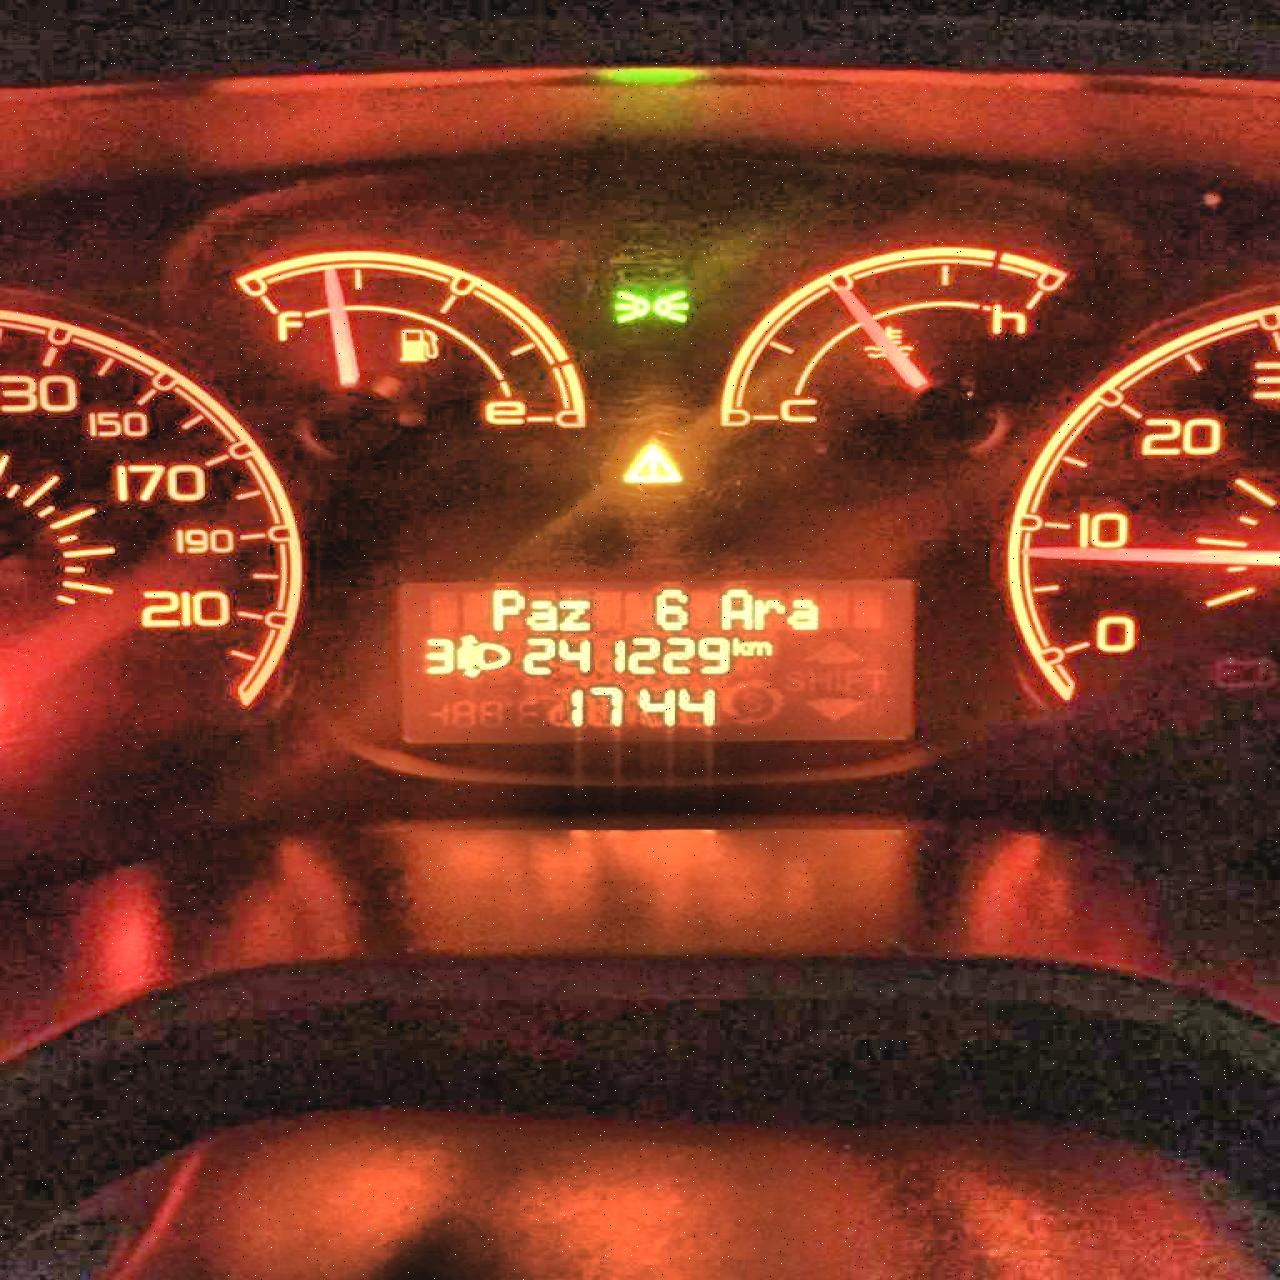1: (564, 685, 584, 727), (606, 636, 626, 674)
2: (520, 635, 554, 676), (625, 635, 659, 675), (660, 634, 693, 674)
3: (423, 636, 454, 675)
4: (633, 685, 676, 729), (676, 685, 716, 727), (557, 636, 593, 674)
6: (651, 585, 690, 631)
7: (585, 682, 624, 728)
9: (695, 634, 730, 675)
X: (489, 586, 525, 632), (716, 585, 751, 631), (557, 598, 593, 632), (784, 595, 818, 629), (525, 598, 557, 632), (754, 595, 784, 629), (747, 639, 771, 656), (730, 634, 745, 656)
odometer: (388, 572, 920, 747)
